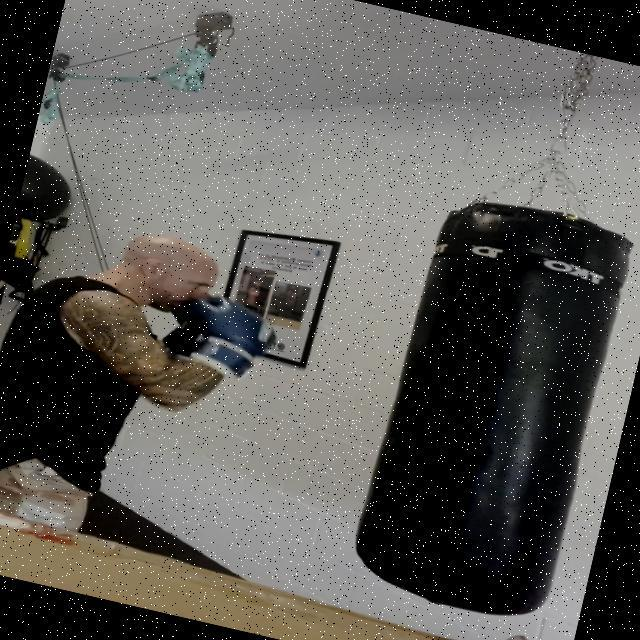bag: (329, 183, 640, 626)
